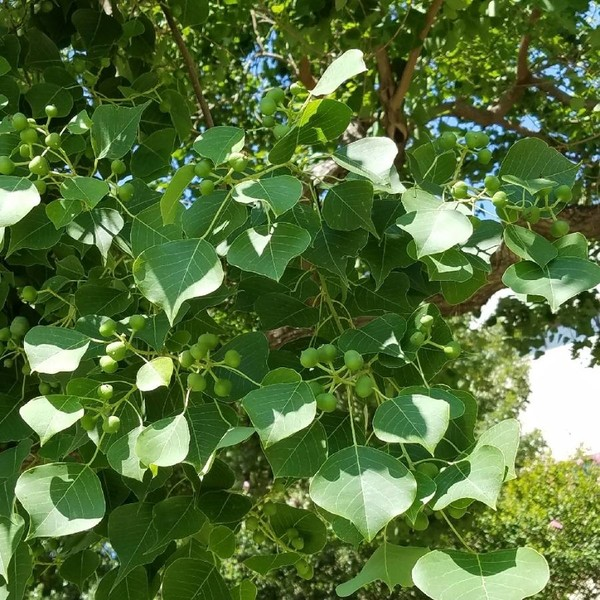obstacle: (50, 34, 537, 559)
